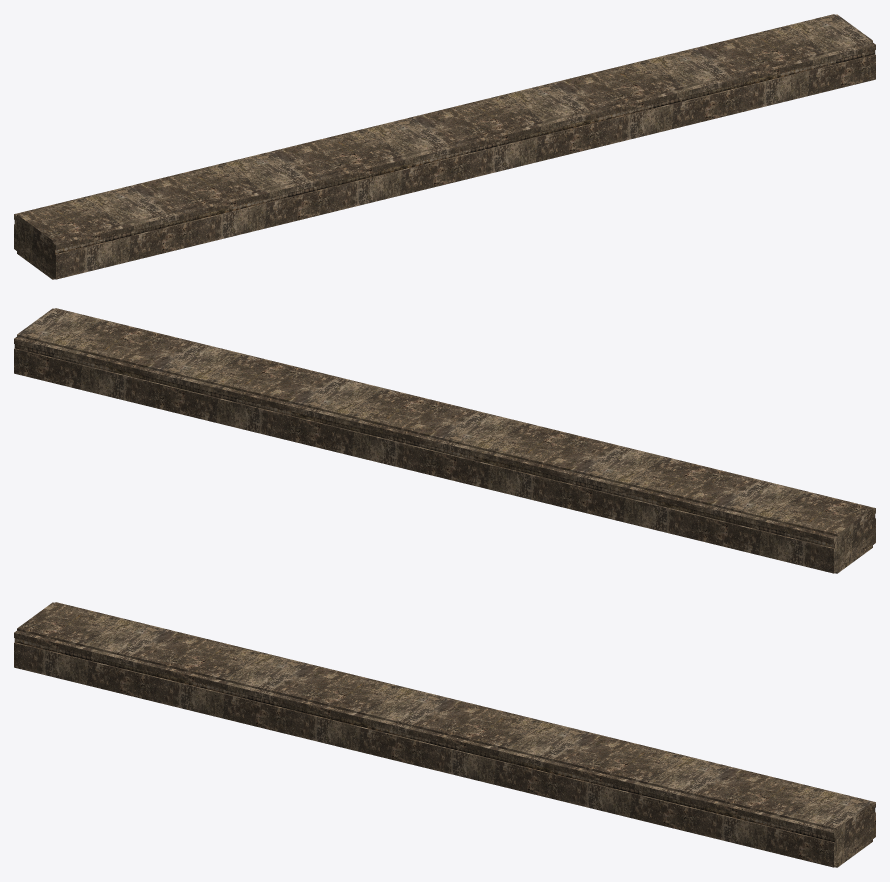
The model's file is materials_5_stonestick_long_5.fbx.
3 views of the same model, one above another, from view 1: azimuth 30°, elevation 25°; view 2: azimuth 150°, elevation 25°; view 3: azimuth 330°, elevation 25° (orthographic).
Visible parts, largest first — view 1: materials_5_stonestick_long_5; view 2: materials_5_stonestick_long_5; view 3: materials_5_stonestick_long_5.
Boxes of the visible parts, x1,y1,x2,y2 form: materials_5_stonestick_long_5: [14, 14, 875, 279]; materials_5_stonestick_long_5: [14, 308, 875, 573]; materials_5_stonestick_long_5: [14, 602, 875, 867].
Size of the model in its own units: 512 by 23.49 by 45.32.
